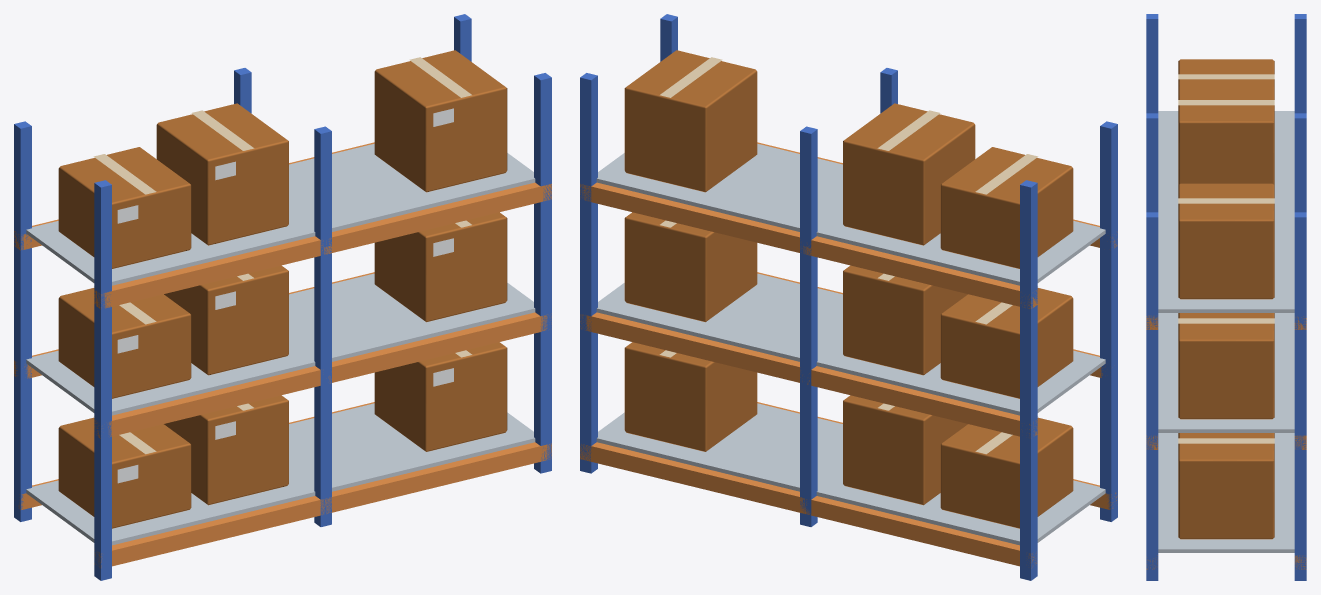
File: CM_Interior_StockroomShelf.fbx
3 renders of one model, left to right at view 1: azimuth 30°, elevation 25°; view 2: azimuth 150°, elevation 25°; view 3: azimuth 270°, elevation 25°, orthographic. The views are drawn at different scales.
Parts seen in each view (by area): view 1: Body; view 2: Body; view 3: Body.
Boxes of the visible parts, x1,y1,x2,y2 form: Body: [14, 14, 551, 580]; Body: [580, 14, 1117, 580]; Body: [1146, 14, 1306, 580].
Size of the model in its own units: 12 by 4 by 10.
1 material, 1 textured.
